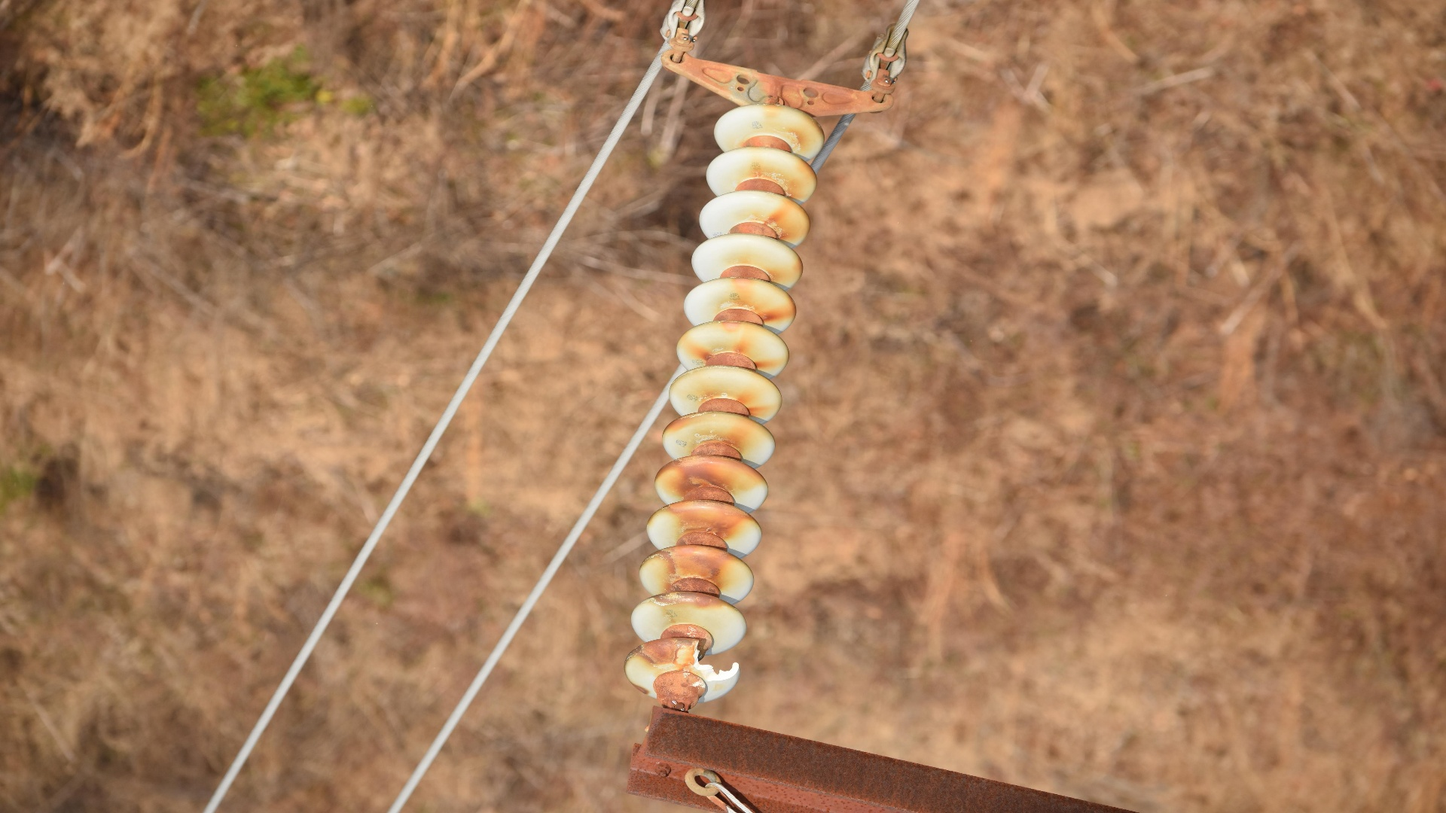insulator: (619, 99, 831, 711)
insulator_breakage: (689, 635, 741, 685)
